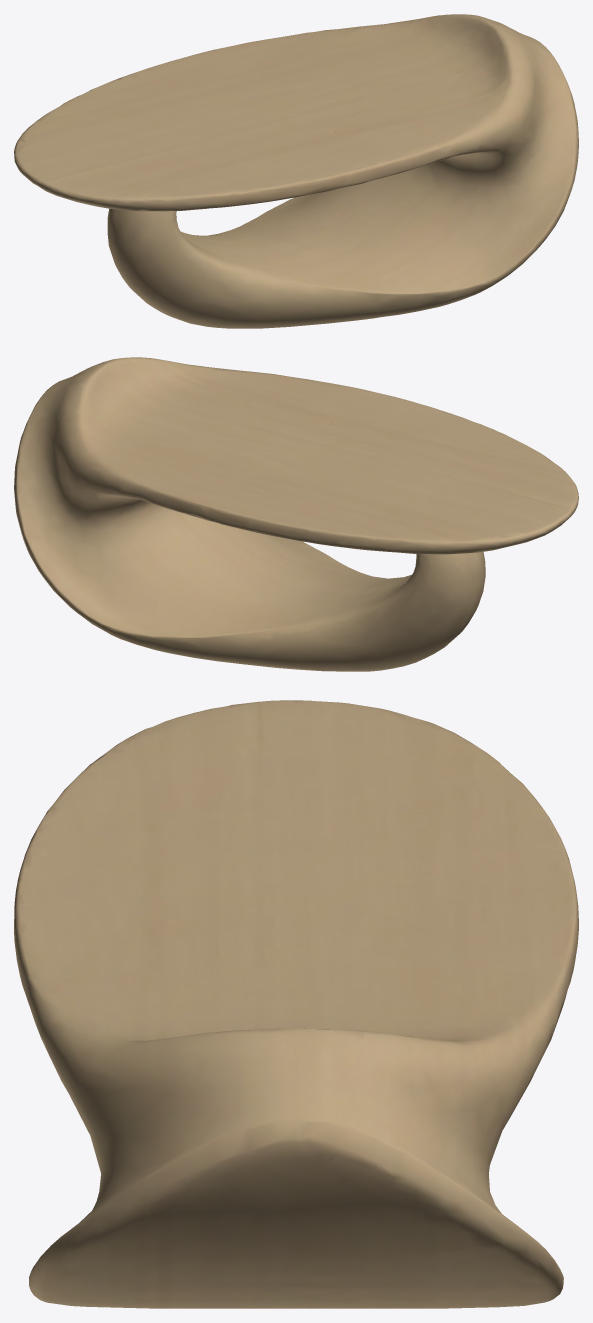
File: coffee-table-pale-wood-sculptural-35k.glb
The picture shows the model from 3 angles, top to bottom: view 1: azimuth 30°, elevation 25°; view 2: azimuth 150°, elevation 25°; view 3: azimuth 270°, elevation 25°; orthographic projection. The views are drawn at different scales.
Parts seen in each view (by area): view 1: world; view 2: world; view 3: world.
Boxes of the visible parts, <box> form: world: <box>14,14,578,328</box>; world: <box>14,357,578,671</box>; world: <box>14,700,578,1308</box>.
Size of the model in its own units: 1 by 0.4332 by 0.5441.
1 material, 1 textured.
